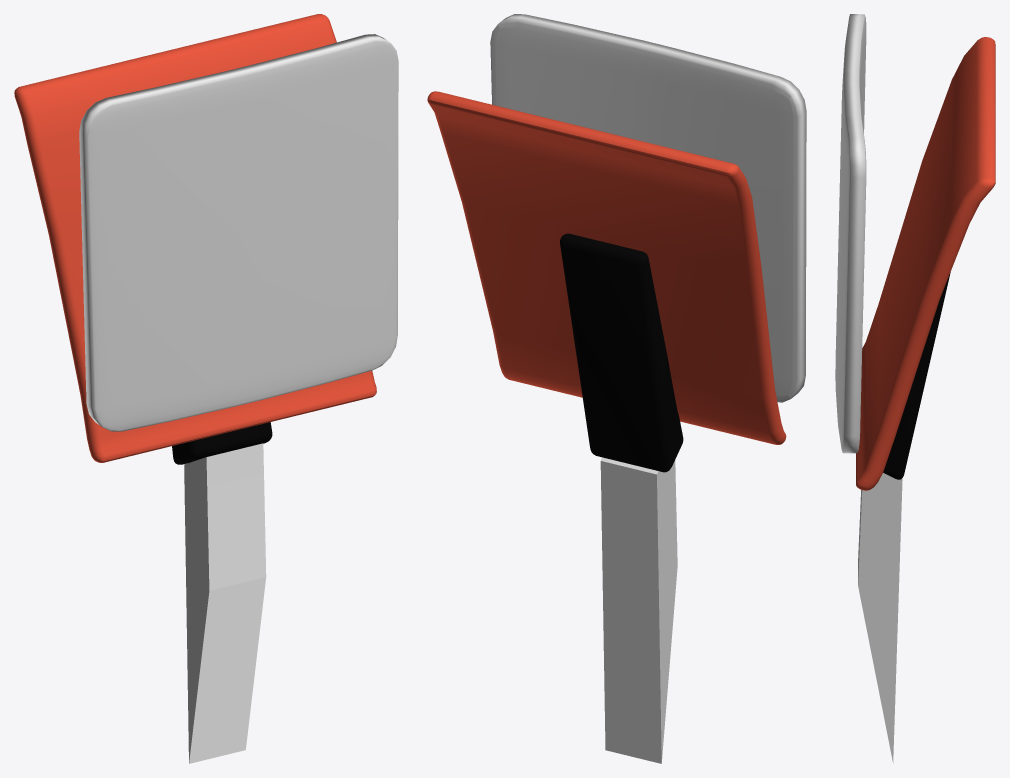
File: amphi_student_chair.fbx
The picture shows the model from 3 angles, left to right: view 1: azimuth 30°, elevation 25°; view 2: azimuth 150°, elevation 25°; view 3: azimuth 270°, elevation 25°; orthographic projection. The views are drawn at different scales.
Parts seen in each view (by area): view 1: amphi_chair|Cube.052|Dupli|, amphi_chair|Cube.053|Dupli|1, amphi_chair|Cube.059|Dupli|2; view 2: amphi_chair|Cube.053|Dupli|1, amphi_chair|Cube.052|Dupli|, amphi_chair|Cube.059|Dupli|2; view 3: amphi_chair|Cube.053|Dupli|1, amphi_chair|Cube.052|Dupli|, amphi_chair|Cube.059|Dupli|2.
Part boxes in pixels (bbox=[...]): amphi_chair|Cube.052|Dupli|: bbox=[79, 34, 398, 431]; amphi_chair|Cube.053|Dupli|1: bbox=[14, 14, 376, 464]; amphi_chair|Cube.059|Dupli|2: bbox=[184, 443, 266, 763]; amphi_chair|Cube.053|Dupli|1: bbox=[427, 91, 786, 472]; amphi_chair|Cube.052|Dupli|: bbox=[490, 14, 806, 402]; amphi_chair|Cube.059|Dupli|2: bbox=[600, 457, 677, 763]; amphi_chair|Cube.053|Dupli|1: bbox=[856, 37, 995, 490]; amphi_chair|Cube.052|Dupli|: bbox=[835, 14, 866, 453]; amphi_chair|Cube.059|Dupli|2: bbox=[858, 473, 902, 763].
Bounding box in the file's own units: 0.3802 × 0.8156 × 0.1753.
